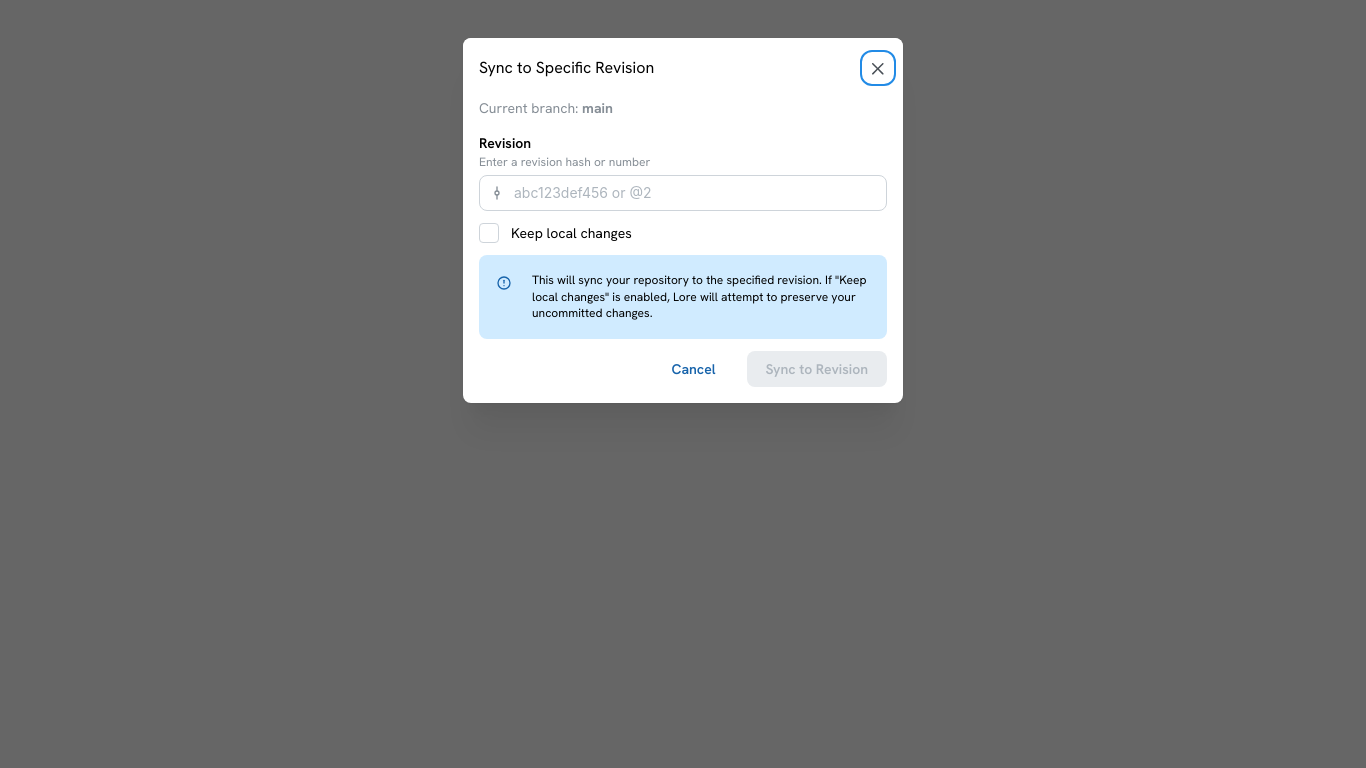
Test: RevisionSyncModal › should reject a non-hex revision
entering a non-hex value and syncing
Type "not-a-hash" into the field labelled "Revision". click: {"x": 683, "y": 193}
box: [479, 175, 887, 211]
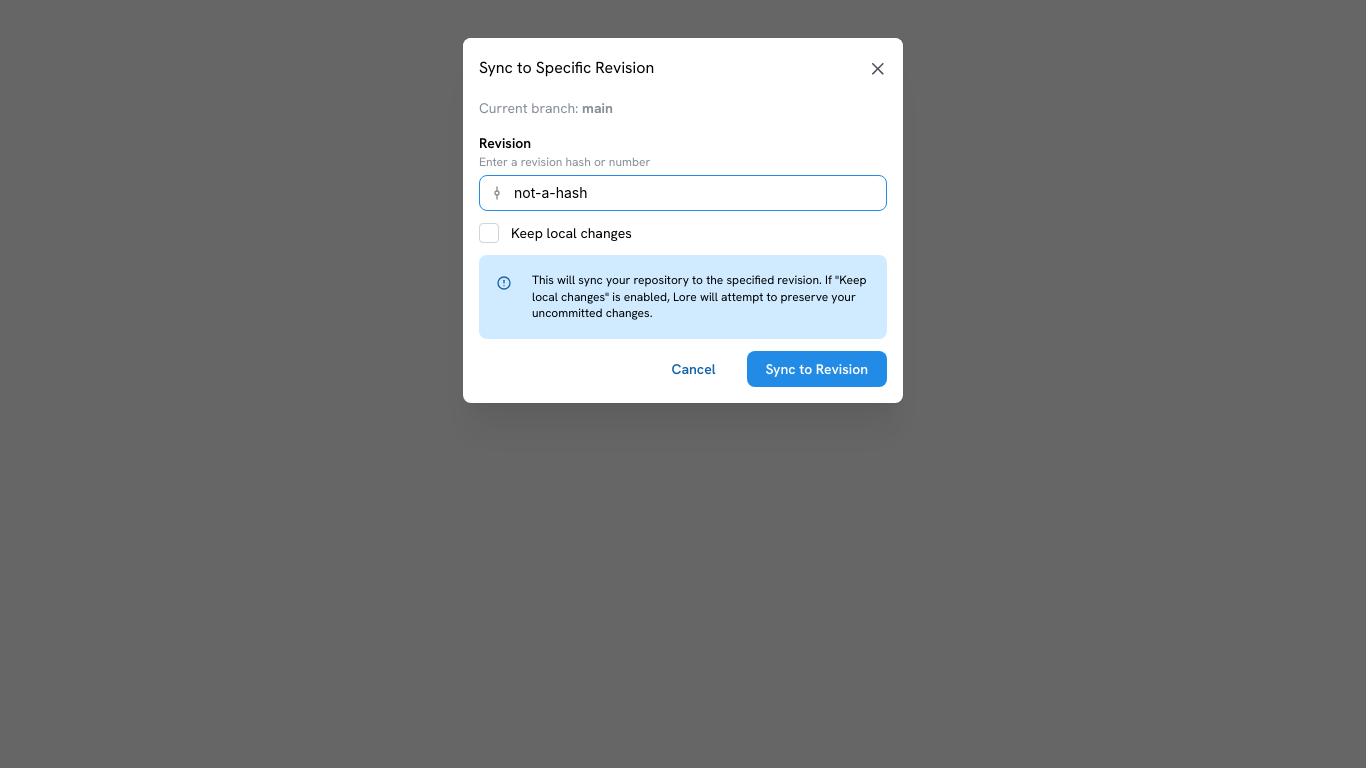
Click the button "Sync to Revision". click: {"x": 817, "y": 369}
box: [746, 351, 887, 387]
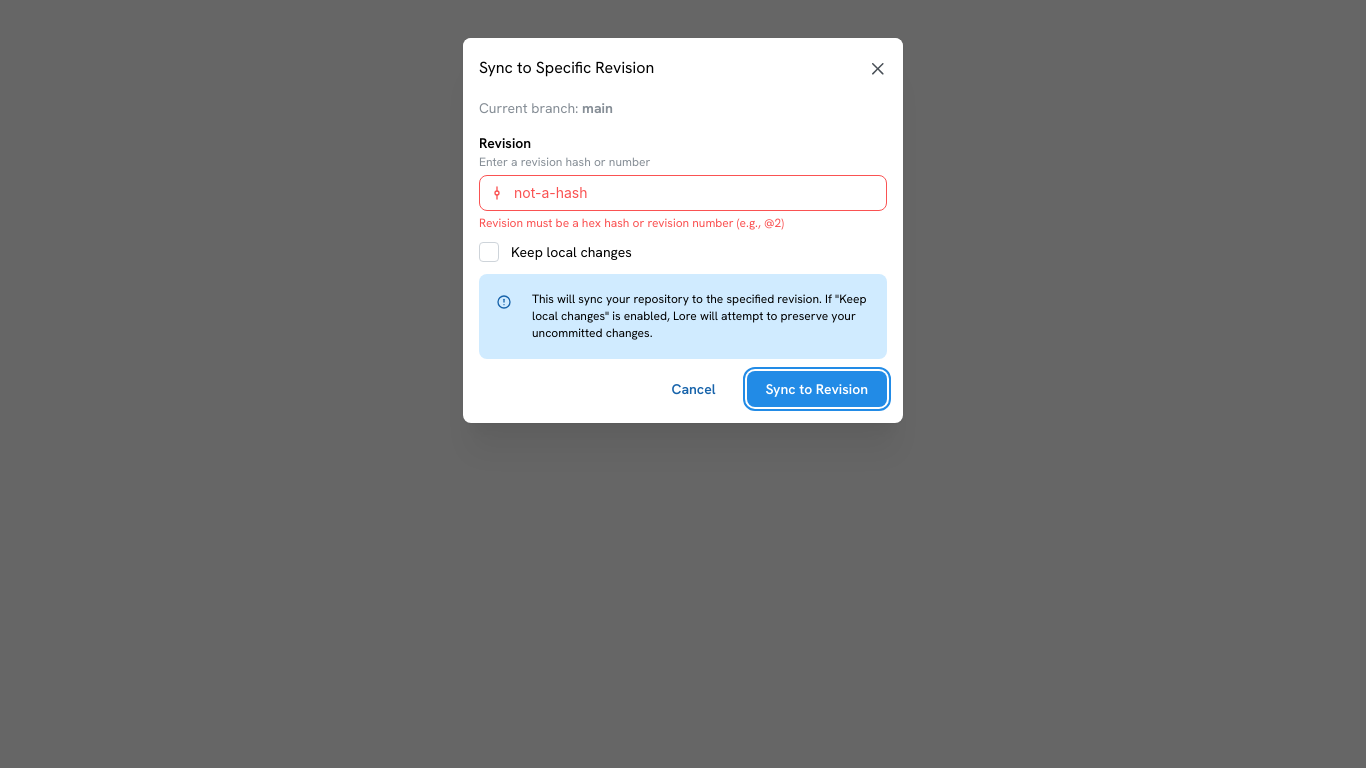
Result: the text "Revision must be a hex hash or revision number (e.g., @2)" is shown at [479, 215, 784, 231]
